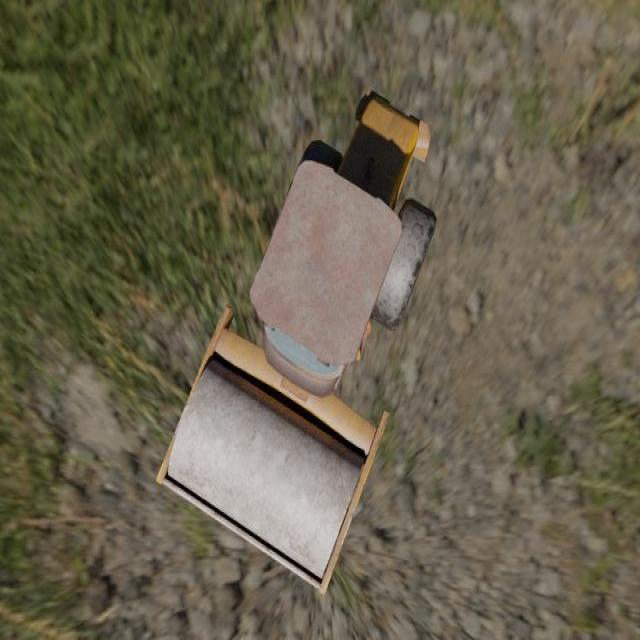Roller: (156, 88, 437, 595)
